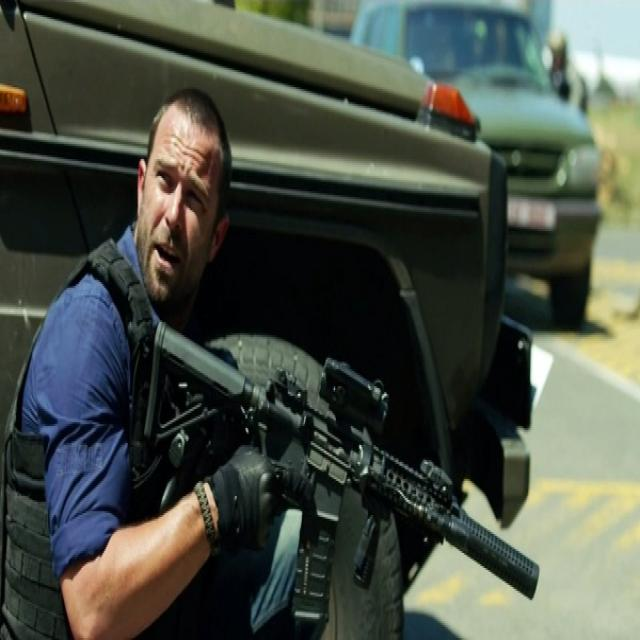rifle: (145, 320, 547, 631)
